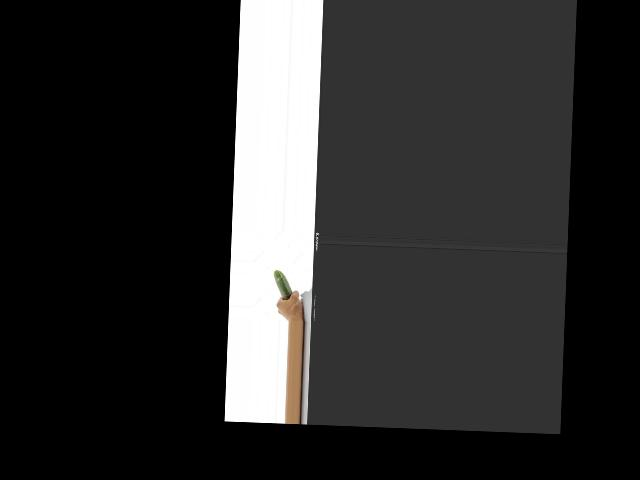cucumber: (273, 270, 293, 300)
